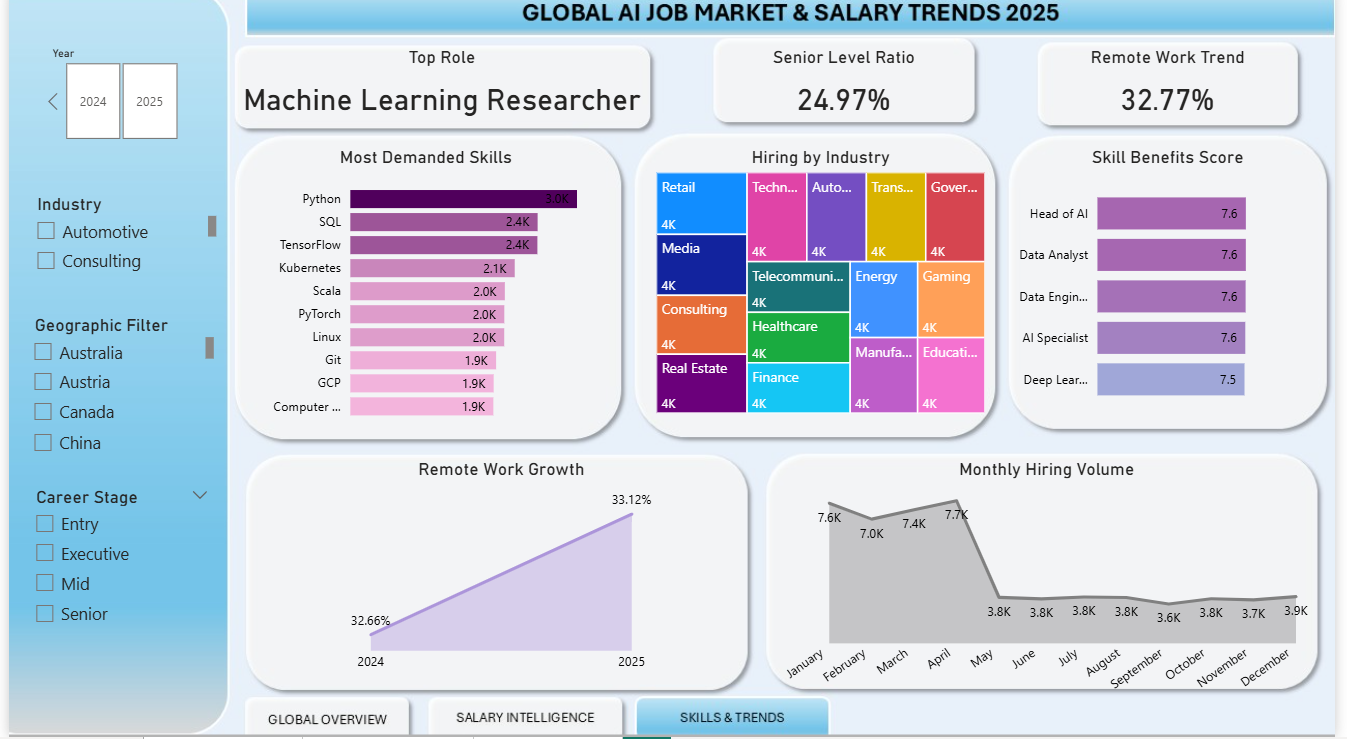

This screenshot's page, from the dashboard's own definition file:
{"tool":"powerbi","page":{"name":"Skills & Trends","canvas":[1280,720],"ordinal":2},"visuals":[{"type":"card","title":"Remote Work Trend","fields":{"Values":["_Measures.Remote Ratio"]},"box":[1019.4,53.1,197.9,79.6],"z":0},{"type":"card","title":"Senior Level Ratio","fields":{"Values":["_Measures.Senior Ratio"]},"box":[707,53.1,197.9,79.6],"z":1000},{"type":"card","title":"Top Role","fields":{"Values":["_Measures.Top Role"]},"box":[216,53.1,404.2,79.6],"z":2000},{"type":"clusteredBarChart","title":"Most Demanded Skills","fields":{"Category":["FactJobs.Skill"],"Y":["_Measures.Skill Count"]},"box":[231.9,149.6,341.7,274.4],"z":3000},{"type":"lineChart","title":"Remote Work Growth","fields":{"Category":["DimDate.Year"],"Y":["_Measures.Remote Ratio"]},"box":[243.7,451.2,463.3,214.7],"z":4000},{"type":"treemap","title":"Hiring by Industry","fields":{"Group":["FactJobs.Industry"],"Values":["_Measures.Total Jobs"]},"box":[620.1,149.6,326.9,263],"z":5000},{"type":"lineChart","title":" Monthly Hiring Volume","fields":{"Y":["_Measures.Total Jobs"],"Category":["DimDate.MonthName"]},"box":[739.6,451.5,524.2,245.6],"z":6000},{"type":"clusteredBarChart","title":"Skill Benefits Score ","fields":{"Category":["DimRole.Role"],"Y":["_Measures.Avg Benefits Score"]},"box":[956.7,149.6,323.3,263],"z":7000},{"type":"slicer","fields":{"Values":["DimDate.Year"]},"box":[29.2,48.7,157.2,101.6],"z":8000},{"type":"slicer","fields":{"Values":["DimIndustry.Industry"]},"box":[13.9,190.6,190.6,90.4],"z":9000},{"type":"slicer","fields":{"Values":["DimCountry.Country"]},"box":[12.5,307.5,190.6,143.3],"z":10000},{"type":"slicer","fields":{"Values":["FactJobs.Experience"]},"box":[13.7,473.4,190.7,149.6],"z":11000},{"type":"actionButton","box":[243.7,680.4,138.7,39.8],"z":12000},{"type":"actionButton","box":[403,680.4,187,39.8],"z":13000}]}

Visuals, with their boxes on the page's 1280x720 design canvas (x1, y1, x2, y2). These are canvas units, not pixel positions in the 1347x739 screenshot, which may show the page scaled, cropped or inside an application window:
"Remote Work Trend" card: x1=1019, y1=53, x2=1217, y2=133
"Senior Level Ratio" card: x1=707, y1=53, x2=905, y2=133
"Top Role" card: x1=216, y1=53, x2=620, y2=133
"Most Demanded Skills" clusteredBarChart: x1=232, y1=150, x2=574, y2=424
"Remote Work Growth" lineChart: x1=244, y1=451, x2=707, y2=666
"Hiring by Industry" treemap: x1=620, y1=150, x2=947, y2=413
" Monthly Hiring Volume" lineChart: x1=740, y1=452, x2=1264, y2=697
"Skill Benefits Score " clusteredBarChart: x1=957, y1=150, x2=1280, y2=413
slicer - DimDate.Year: x1=29, y1=49, x2=186, y2=150
slicer - DimIndustry.Industry: x1=14, y1=191, x2=204, y2=281
slicer - DimCountry.Country: x1=12, y1=308, x2=203, y2=451
slicer - FactJobs.Experience: x1=14, y1=473, x2=204, y2=623
actionButton: x1=244, y1=680, x2=382, y2=720
actionButton: x1=403, y1=680, x2=590, y2=720
